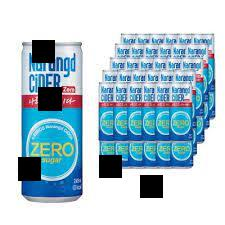narangdcider: (19, 40, 83, 205), (168, 80, 193, 140), (98, 81, 116, 141), (127, 81, 145, 141), (154, 81, 172, 140), (140, 81, 158, 139), (113, 80, 130, 139)
